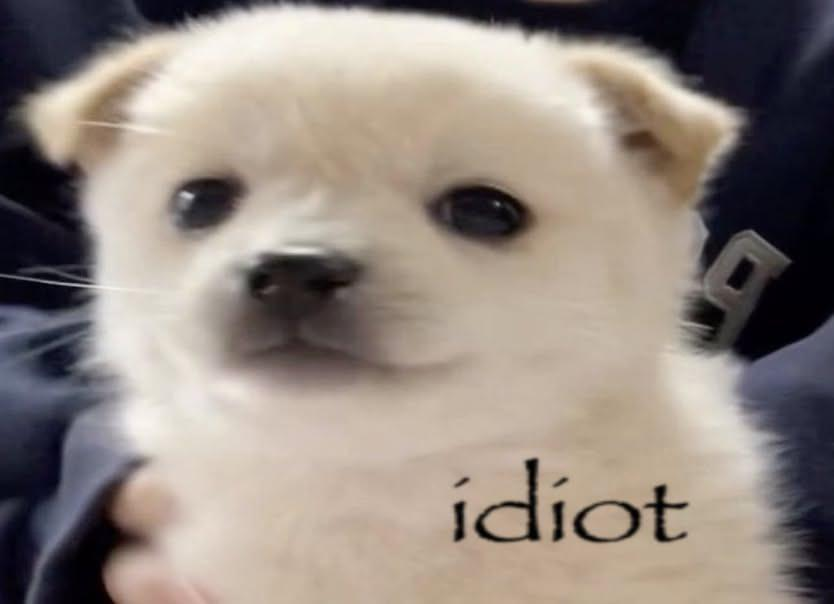puppy-dog: (23, 4, 791, 595)
